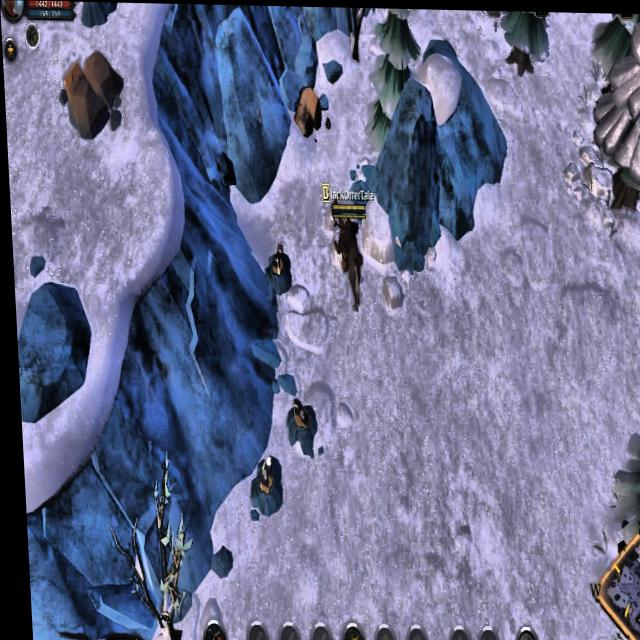copperore: (241, 451, 281, 516), (279, 393, 317, 458), (259, 236, 292, 294)
limestone: (58, 43, 127, 141), (287, 77, 324, 144)
